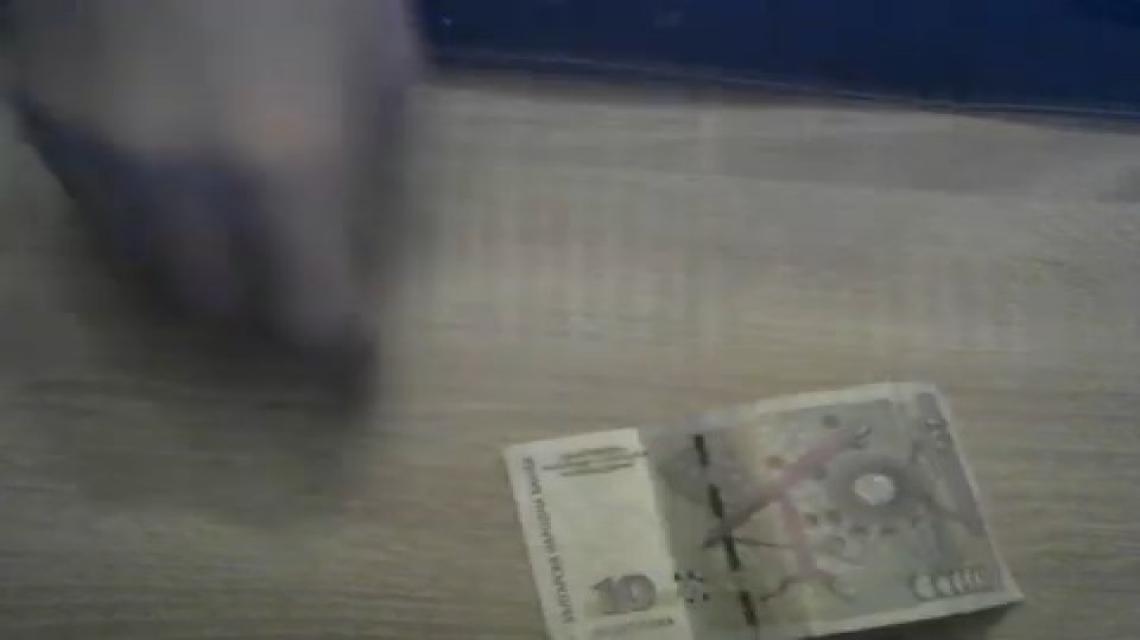10leva: (499, 384, 1024, 640)
